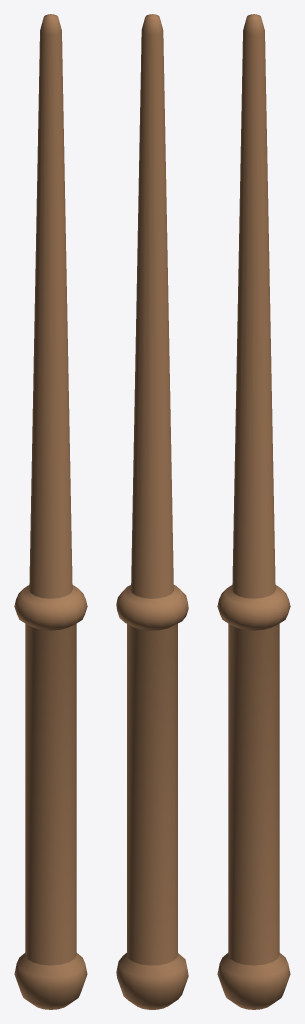
File: Wand.glb
The picture shows the model from 3 angles, left to right: view 1: azimuth 90°, elevation 25°; view 2: azimuth 150°, elevation 25°; view 3: azimuth 270°, elevation 25°; orthographic projection.
Parts seen in each view (by area): view 1: Plane; view 2: Plane; view 3: Plane.
Part boxes in pixels (x1,y1,x2,y2): Plane: (14, 14, 87, 1009); Plane: (116, 14, 188, 1009); Plane: (217, 14, 290, 1009).
Size of the model in its own units: 0.02 by 0.3 by 0.02.
